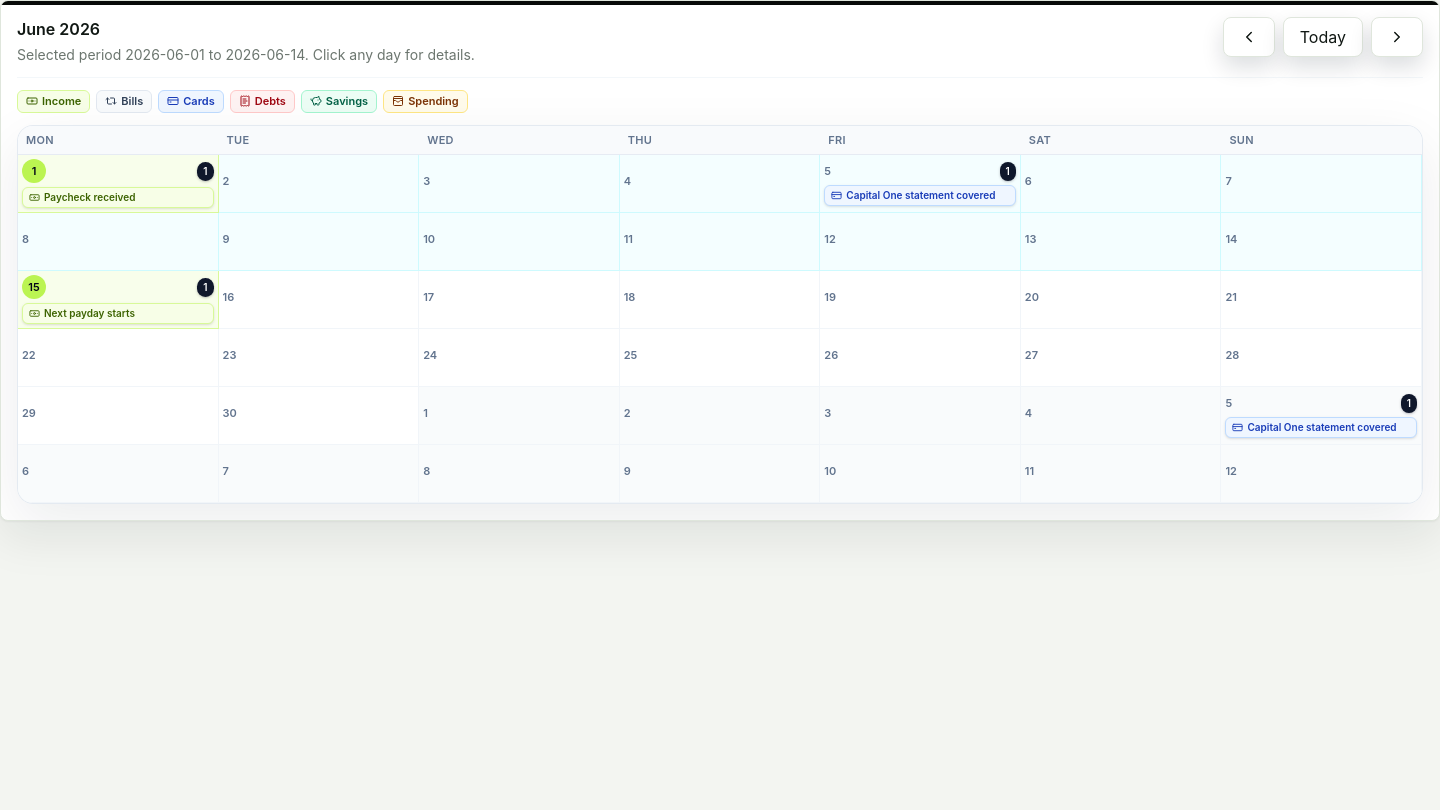
it: calendar page › shows overpaid statement direct debits as covered instead of a negative total
Click the button with aria-label "Open 5 June 2026" at x=921, y=184, box [820,155,1021,213]
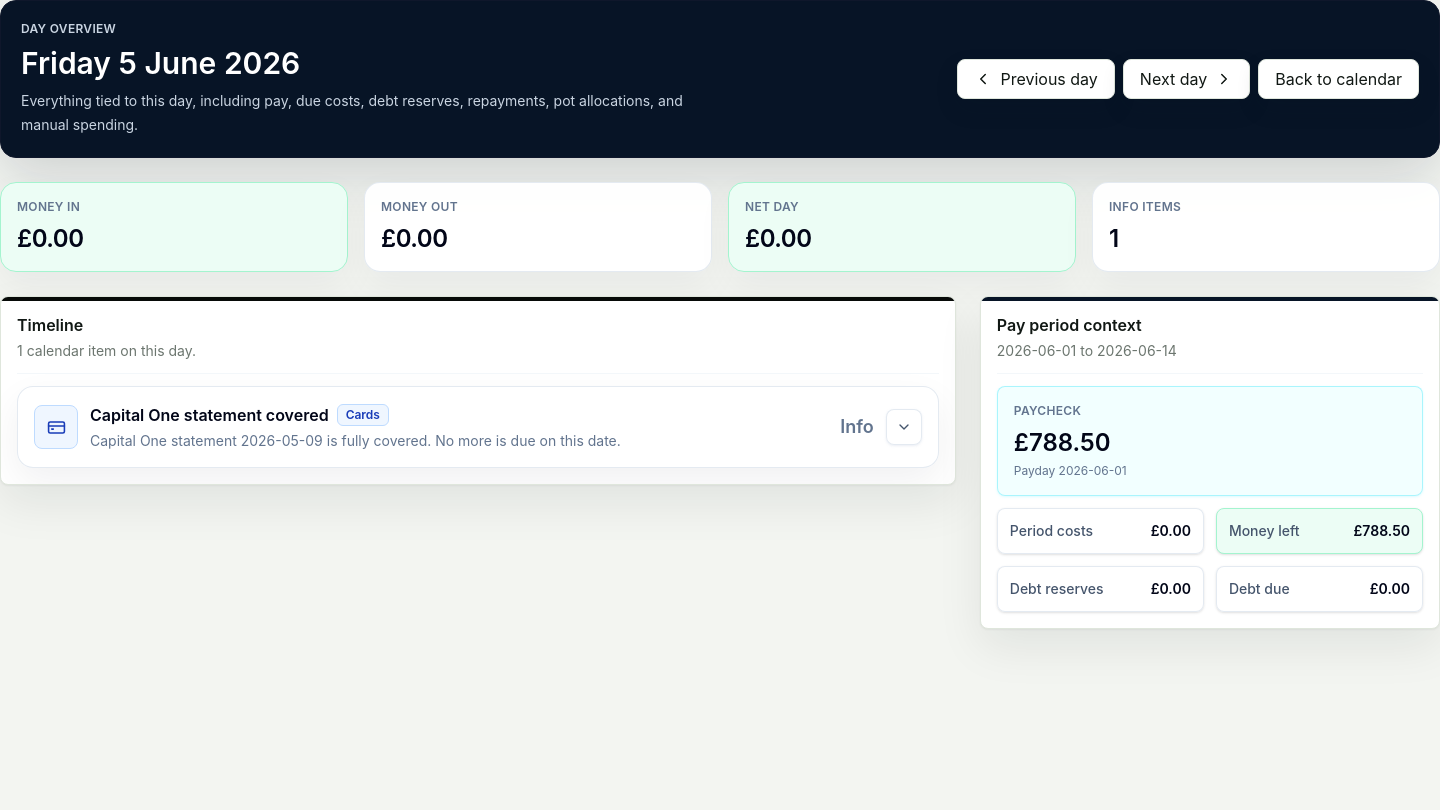
Click the button named "Show breakdown for Capital One statement covered Info" at x=904, y=427, box [886,409,922,445]
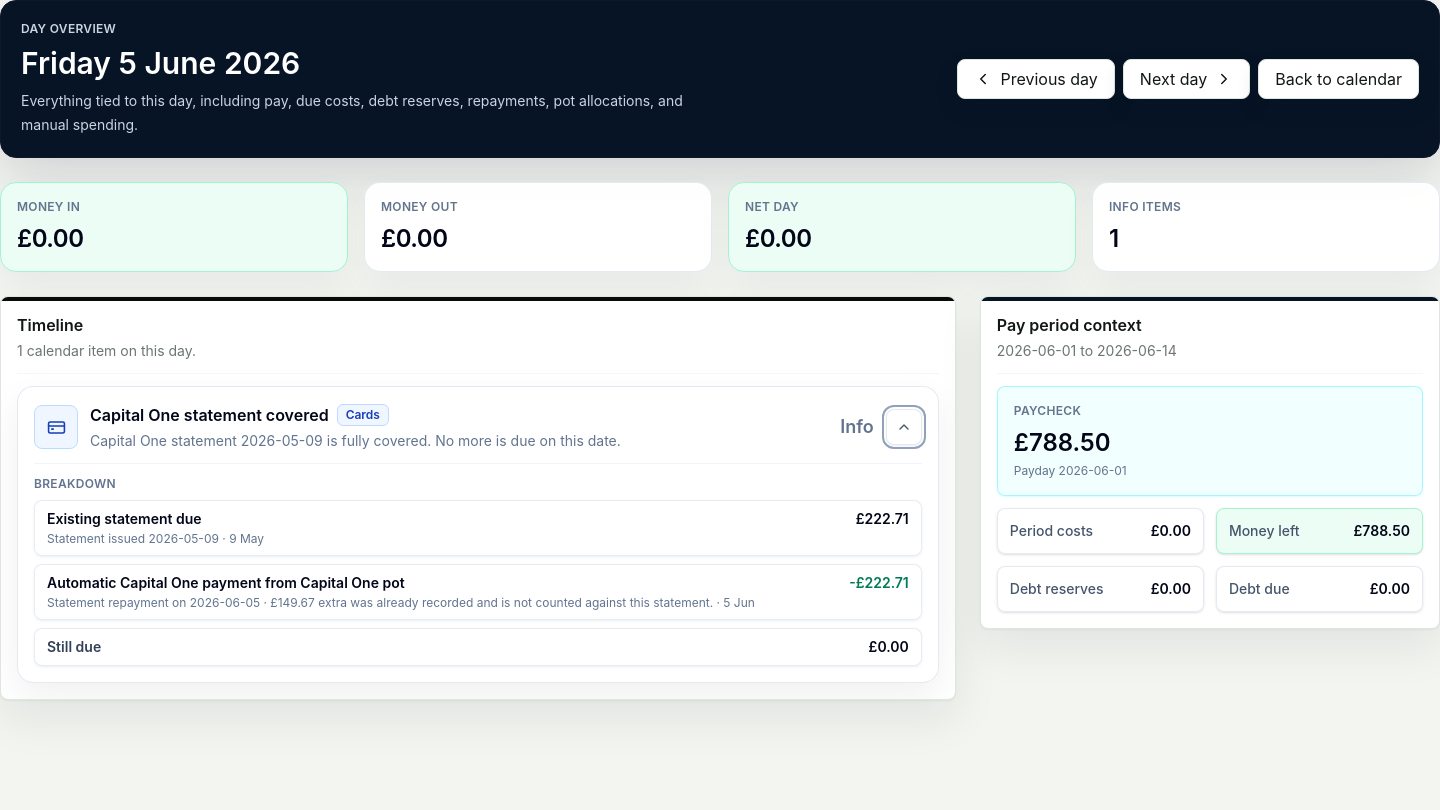
Now the text "Existing statement due" is shown, box [47,510,202,527]
Now the text "Automatic Capital One payment from Capital One pot" is shown, box [47,574,405,591]
Now the text "£222.71" is shown, box [856,509,909,529]
